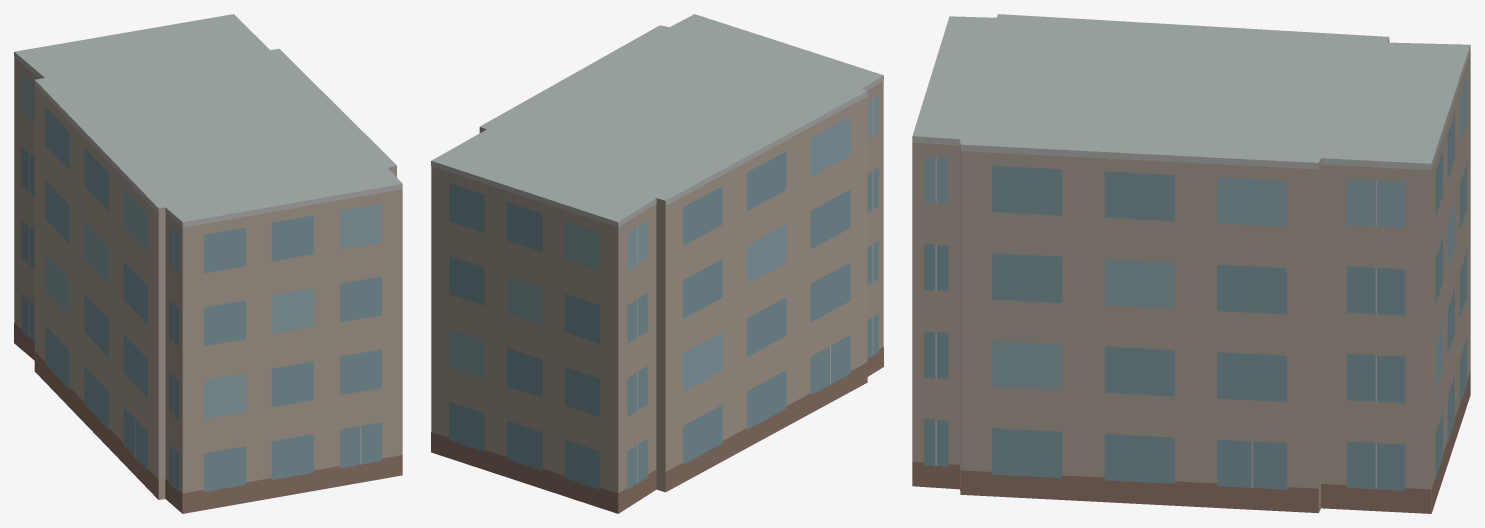
The model's file is survey-upis-32725866.glb.
The picture shows the model from 3 angles, left to right: view 1: azimuth 30°, elevation 25°; view 2: azimuth 150°, elevation 25°; view 3: azimuth 270°, elevation 25°; orthographic projection. The views are drawn at different scales.
Parts seen in each view (by area): view 1: survey-upis-32725866.tmp; view 2: survey-upis-32725866.tmp; view 3: survey-upis-32725866.tmp.
Part boxes in pixels (x1,y1,x2,y2): survey-upis-32725866.tmp: (14,14,402,513); survey-upis-32725866.tmp: (431,14,883,513); survey-upis-32725866.tmp: (912,14,1470,513).
Bounding box in the file's own units: 12.12 × 13.2 × 19.09.
